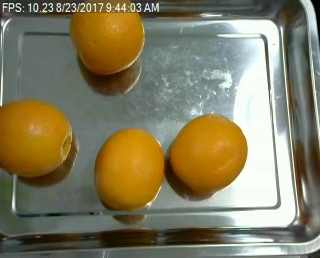Orange: (169, 113, 248, 190), (93, 128, 165, 210), (1, 99, 73, 177), (70, 12, 146, 75)
